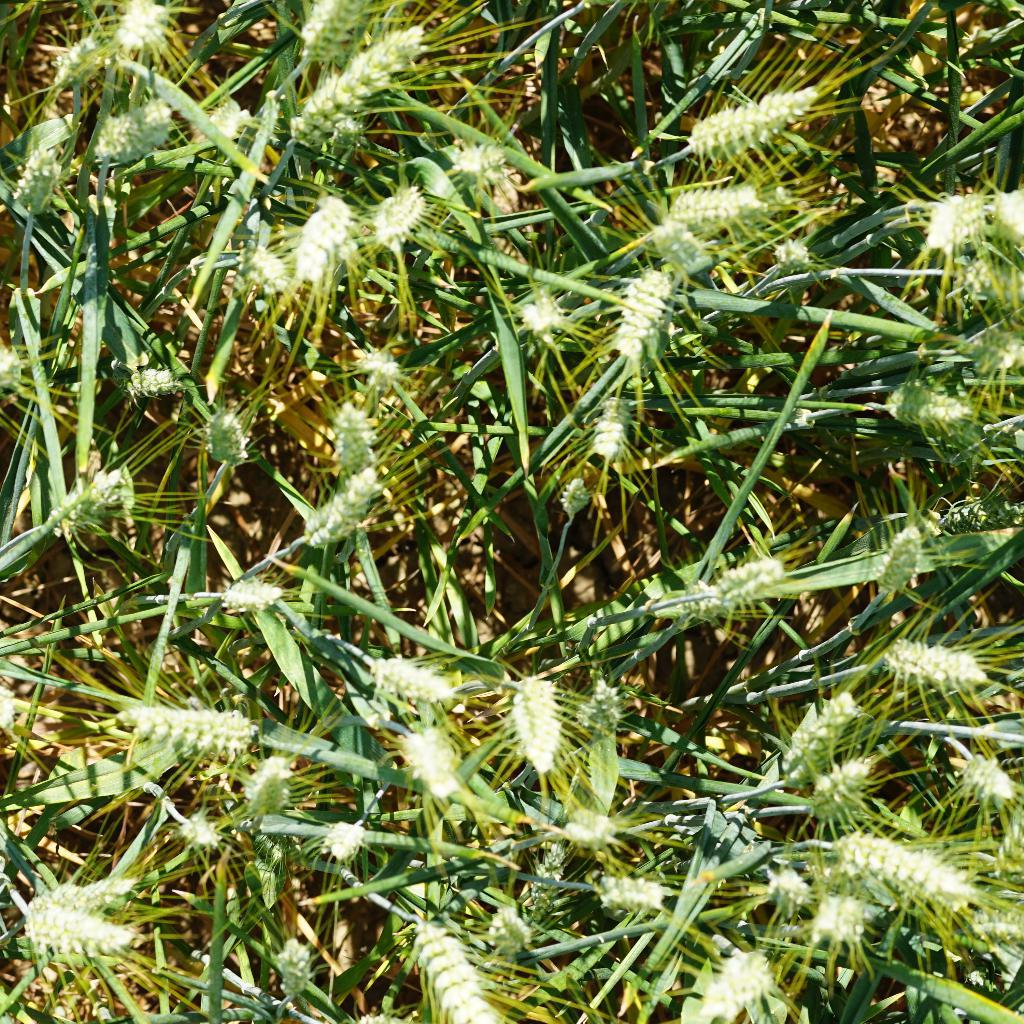0-0: (658, 75, 832, 174), (295, 27, 433, 149), (833, 822, 986, 912), (111, 688, 291, 759), (404, 914, 504, 1024), (19, 892, 152, 965), (36, 463, 144, 541), (366, 714, 468, 796), (772, 694, 858, 789), (612, 261, 686, 369), (290, 186, 354, 309), (283, 0, 377, 82), (873, 635, 989, 701), (654, 179, 788, 236), (292, 474, 388, 550), (359, 642, 466, 710), (90, 97, 178, 178), (239, 232, 311, 329), (886, 373, 983, 445), (45, 866, 159, 923), (636, 213, 732, 280), (807, 751, 886, 832), (507, 675, 574, 770), (691, 941, 770, 1021), (859, 514, 926, 606), (919, 174, 986, 264), (518, 836, 582, 929), (580, 393, 653, 474), (366, 176, 433, 261), (703, 548, 787, 612), (590, 863, 677, 923), (200, 410, 277, 477), (515, 268, 582, 342), (216, 758, 298, 817), (103, 0, 180, 58), (344, 337, 414, 399), (156, 798, 227, 859), (937, 316, 1024, 364), (957, 740, 1020, 806), (937, 249, 1011, 305), (45, 30, 109, 94), (571, 681, 636, 744), (477, 899, 534, 970), (8, 145, 64, 215), (325, 408, 385, 473), (811, 894, 882, 948), (105, 355, 176, 408), (195, 580, 288, 620), (677, 557, 729, 628), (548, 467, 608, 527), (444, 135, 508, 191), (271, 934, 321, 1005), (201, 92, 256, 148), (560, 807, 620, 855), (321, 108, 373, 163), (774, 232, 825, 288), (770, 862, 818, 919), (317, 818, 370, 863), (21, 0, 145, 19), (0, 337, 32, 410), (0, 680, 37, 740), (990, 187, 1024, 250), (570, 0, 675, 18), (347, 1002, 413, 1024)
